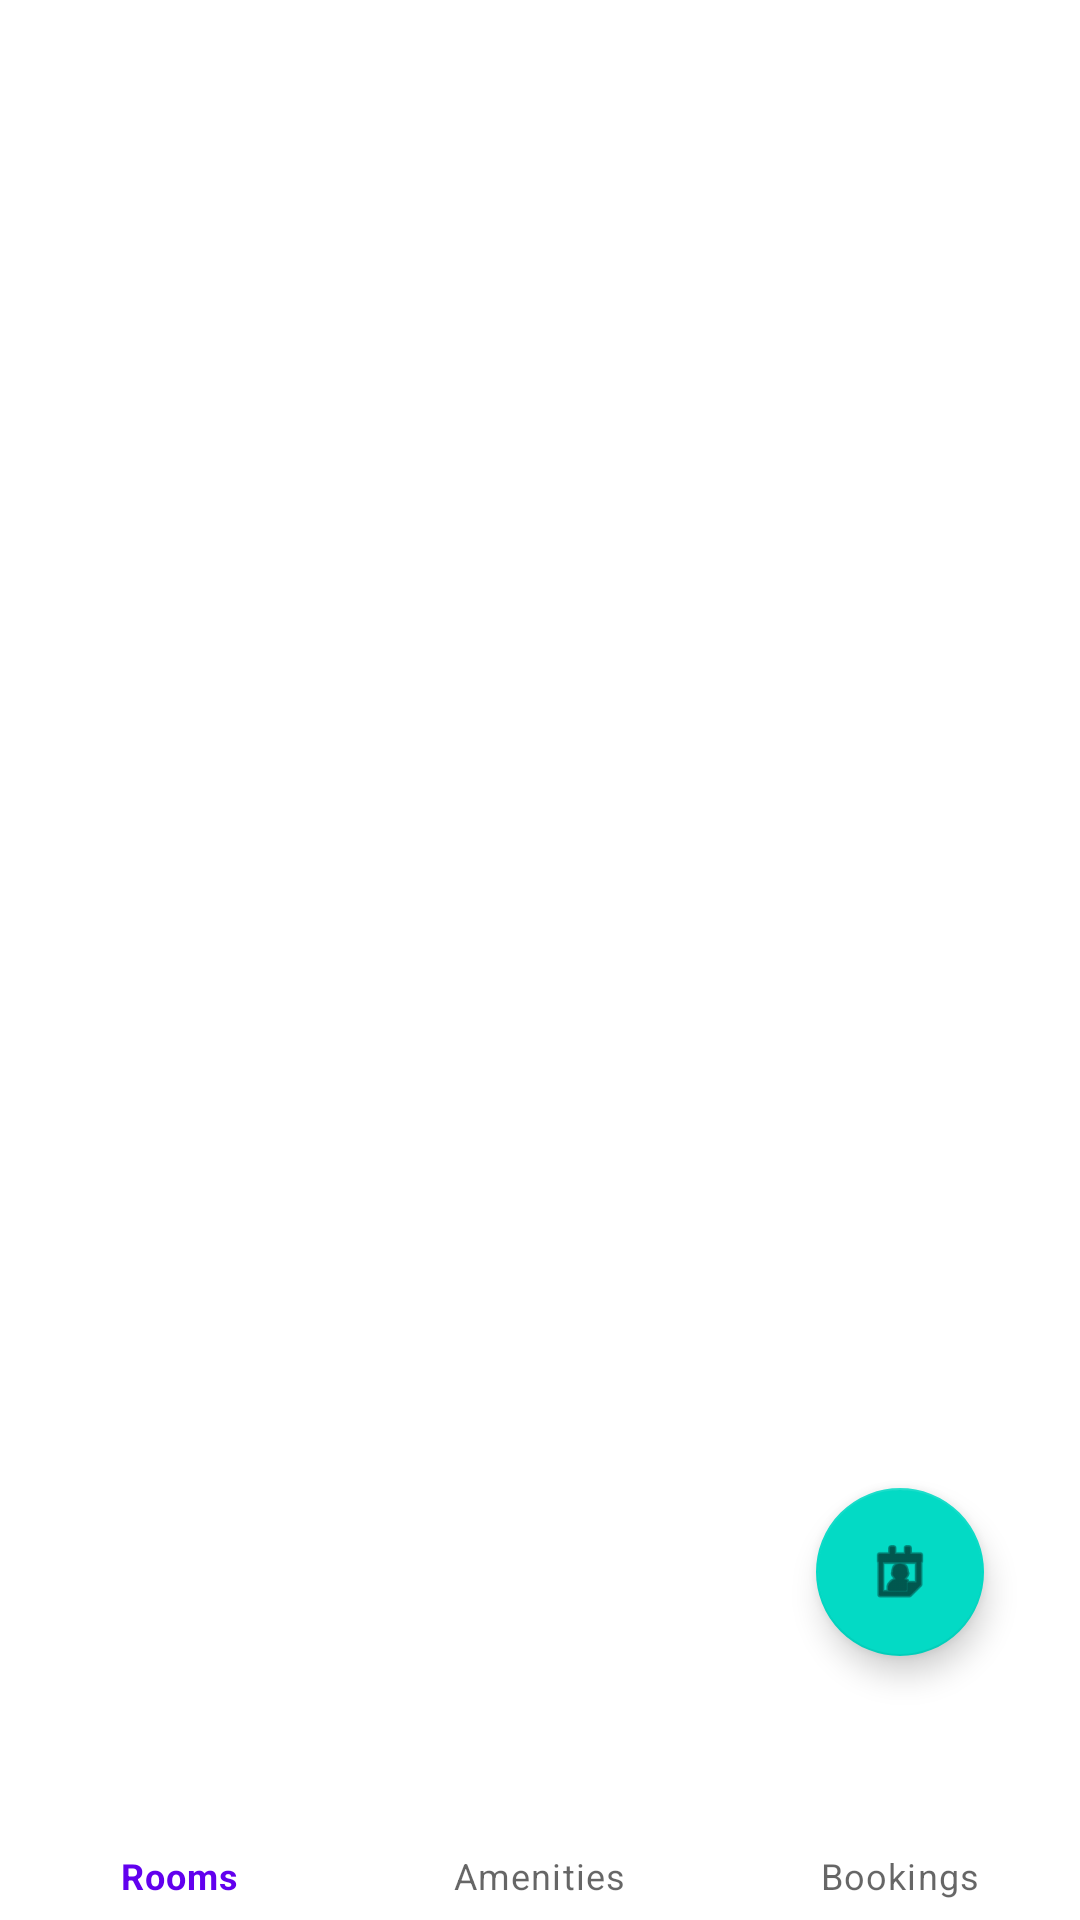

Icons on this 1080px×1920px Android screen, each with its box as (x1, y1, x2, y2):
calendar: (816, 1488, 984, 1656)
